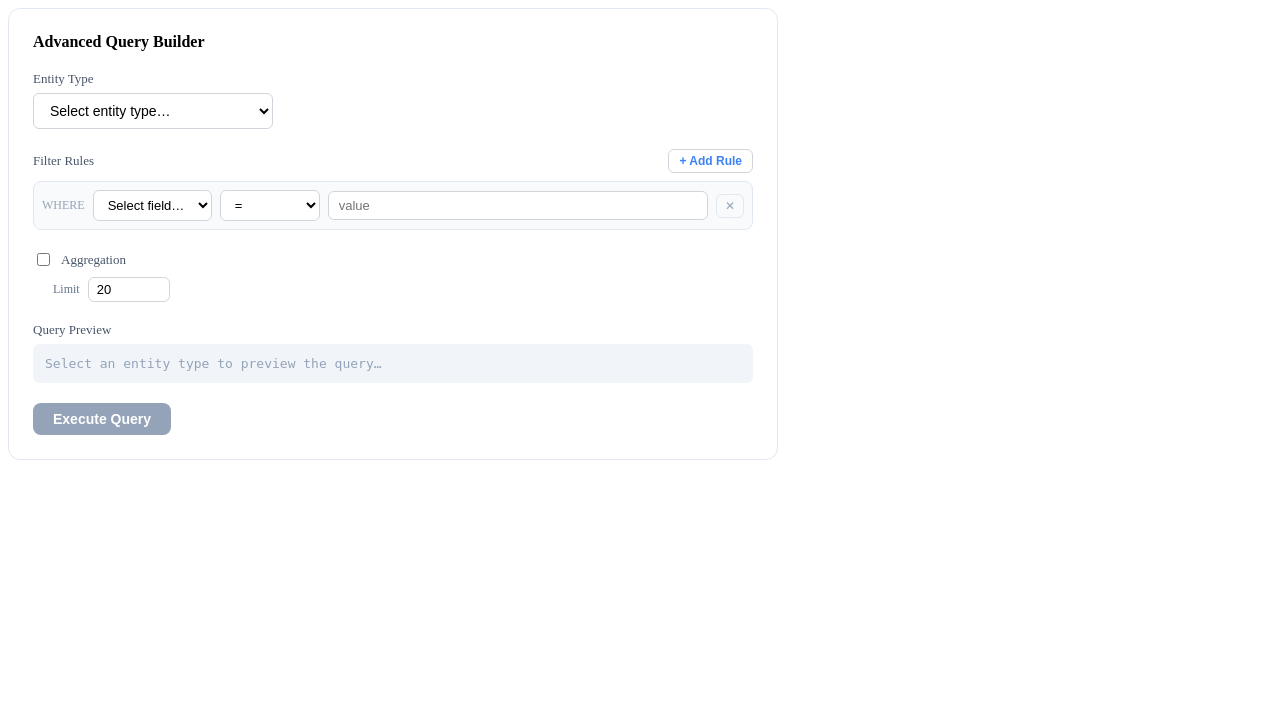
it: AdvancedQueryBuilder › filter rule management › shows validation warning for incomplete rules (field set, value empty)
The width and height of the screenshot is (1280, 720).
Select "contact" in the dropdown labelled "Entity Type". click: coordinates (153, 111)
box: [33,93,273,129]
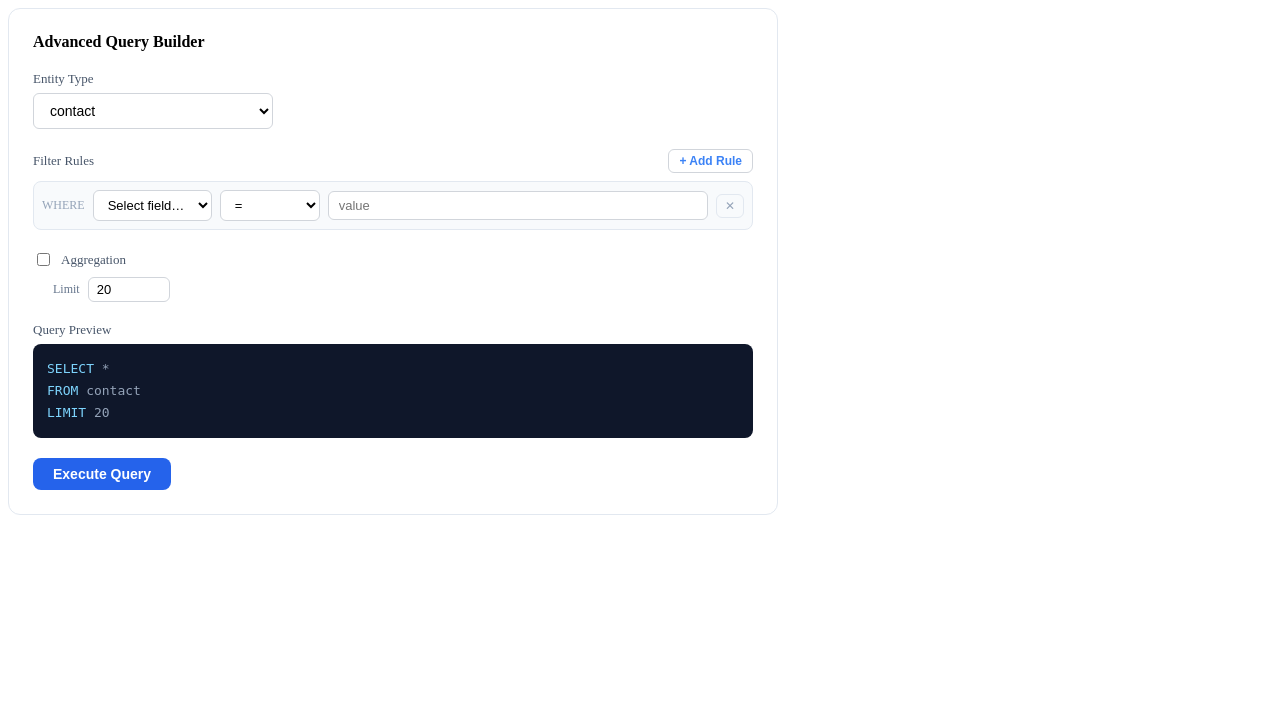
Select "stage" in the dropdown named "Filter field". click: coordinates (152, 206)
box: [93,190,212,221]
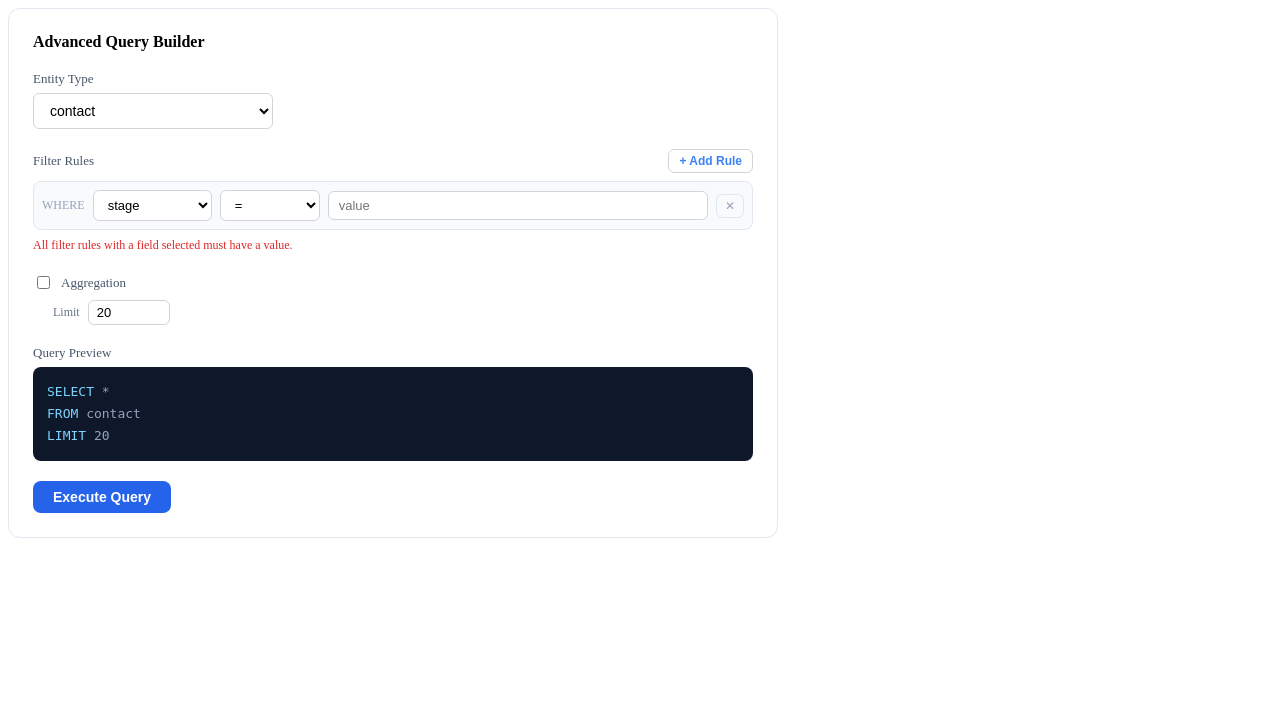
Expected: the text "All filter rules with a field selected must have a value." is shown, [33,238,293,252]
